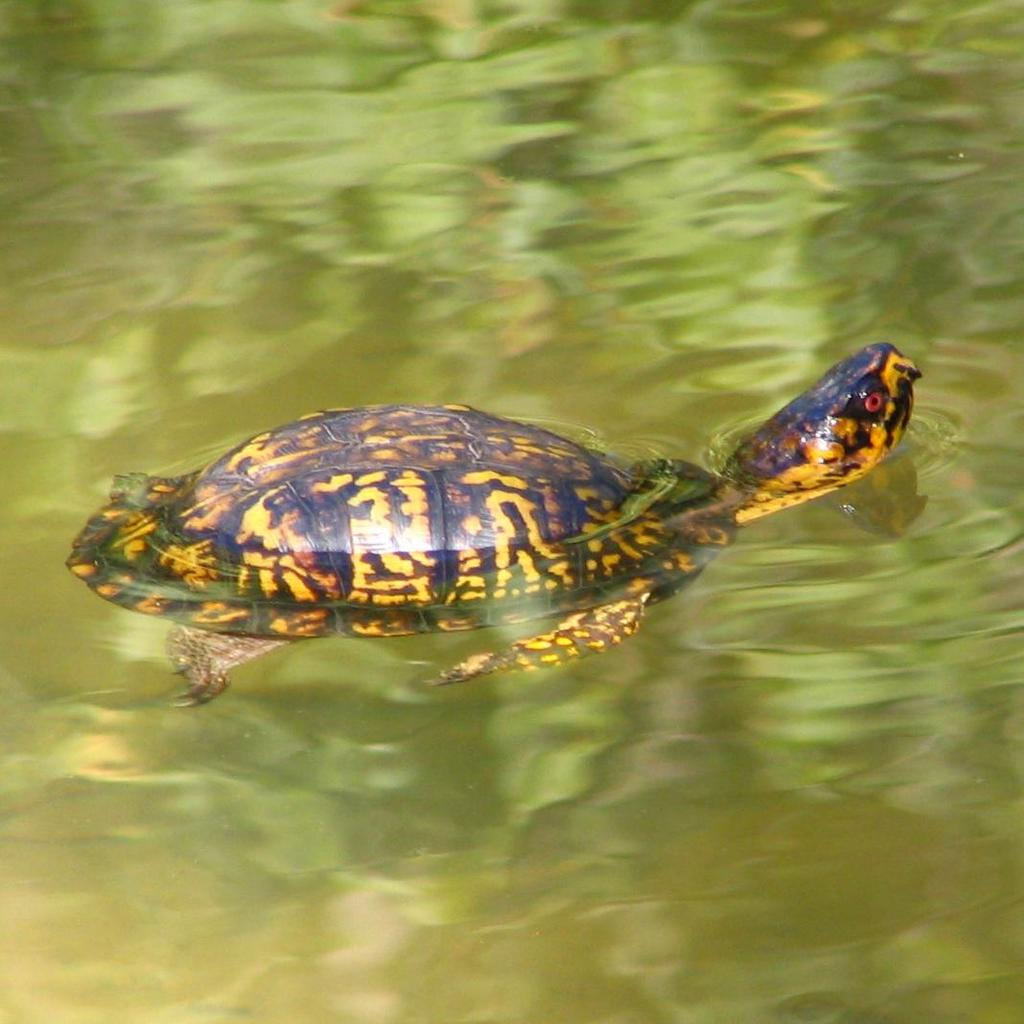Sea turtles: (58, 332, 929, 707)
